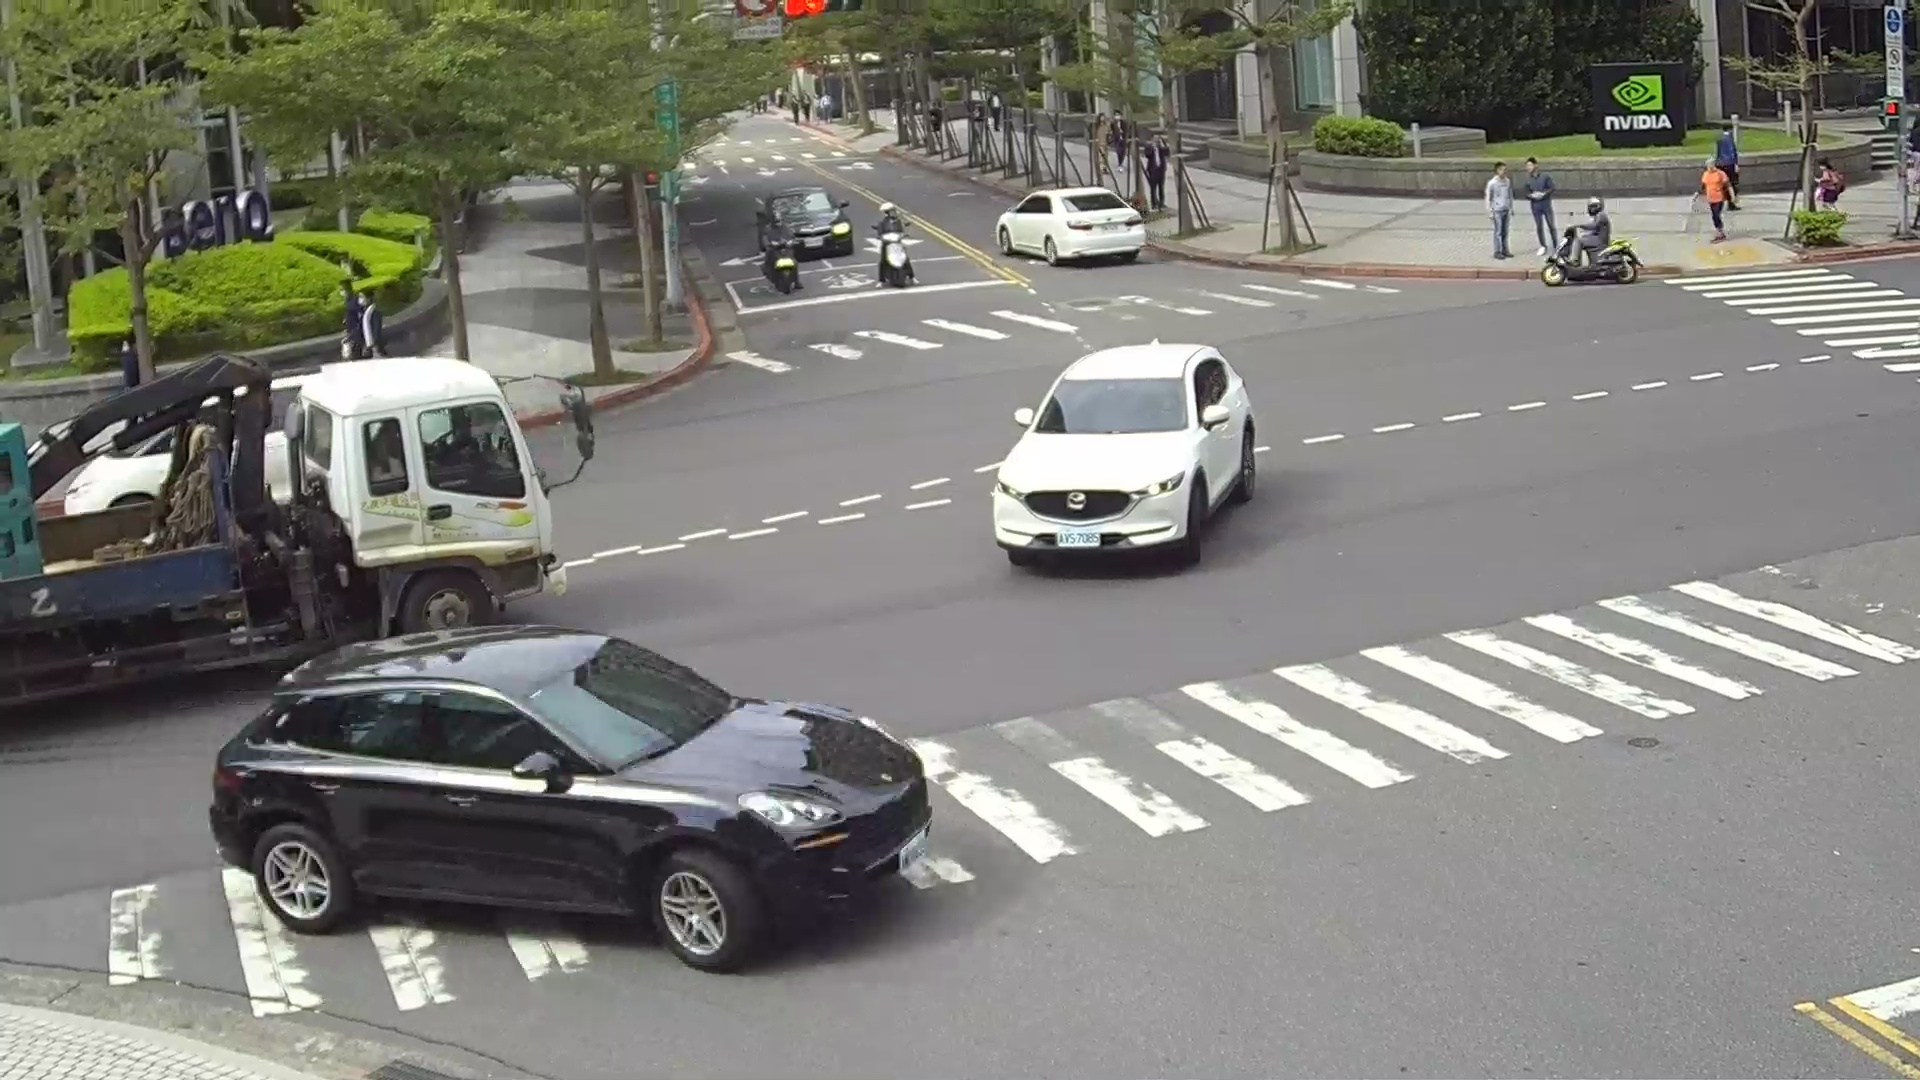bike: (1541, 232, 1638, 285), (871, 232, 918, 287), (766, 237, 804, 294)
pedestrian: (1518, 152, 1560, 255), (334, 282, 385, 358), (1560, 195, 1610, 268), (1484, 161, 1515, 257), (1698, 161, 1733, 243), (871, 206, 909, 262), (1140, 138, 1165, 214), (1812, 158, 1847, 207), (768, 206, 794, 265), (1711, 127, 1740, 170), (1111, 113, 1130, 161)
vehicle: (214, 621, 947, 959), (1, 348, 574, 746), (991, 342, 1266, 573), (991, 188, 1152, 264), (754, 184, 855, 264)
